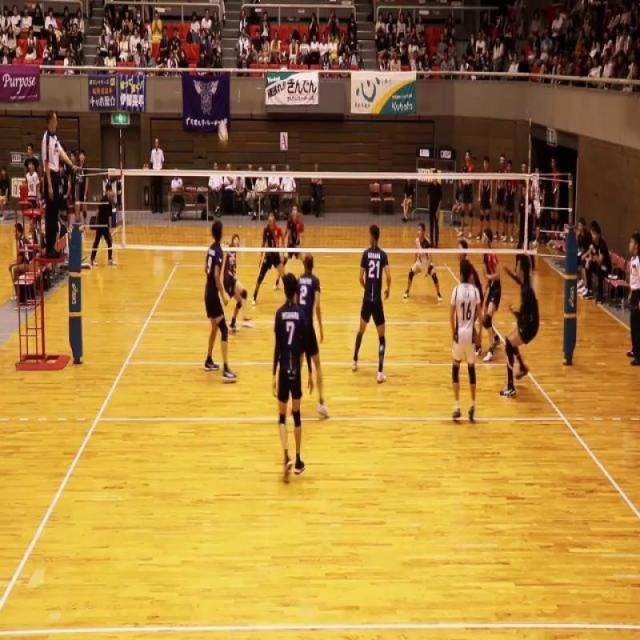volleyball: (217, 118, 229, 150)
